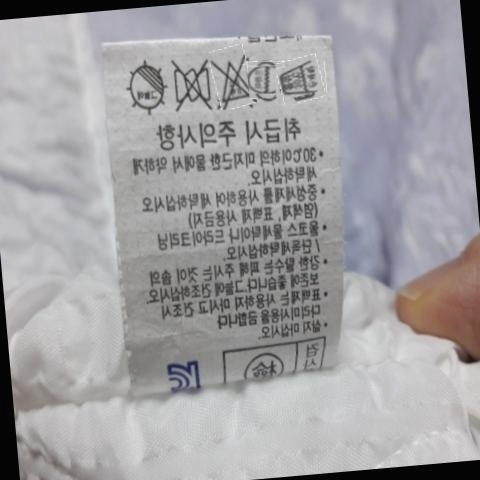DN_wring: (168, 59, 211, 109)
dry_clean: (249, 62, 279, 96)
hand_wash: (277, 56, 321, 98)
non_chlorine_bleach: (215, 55, 250, 105)
shade_dry: (123, 60, 168, 116)
